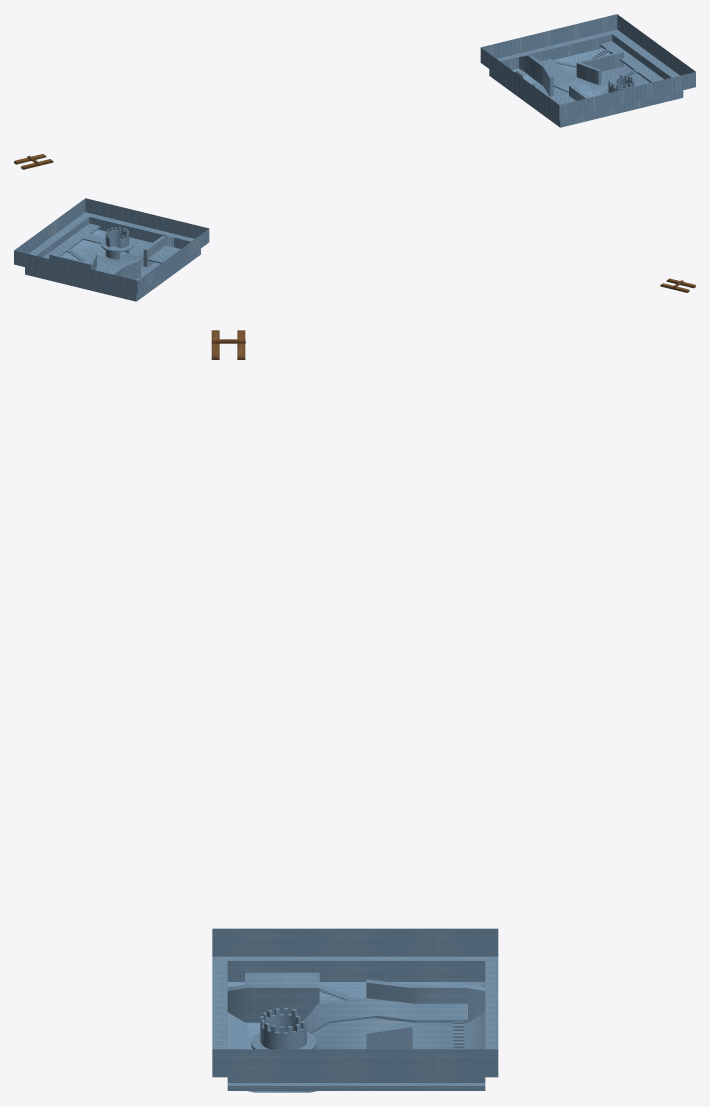
File: level 7.glb
3 renders of one model, top to bottom at view 1: azimuth 30°, elevation 25°; view 2: azimuth 150°, elevation 25°; view 3: azimuth 270°, elevation 25°, orthographic. The views are drawn at different scales.
Visible parts, largest first — view 1: Cube.004, Object_barrel_0; view 2: Cube.004, Object_barrel_0; view 3: Cube.004.
Part boxes in pixels (x1,y1,x2,y2): Cube.004: [480, 14, 695, 127]; Object_barrel_0: [14, 154, 53, 169]; Cube.004: [14, 198, 209, 301]; Object_barrel_0: [660, 278, 695, 292]; Cube.004: [212, 928, 498, 1092].
Size of the model in its own units: 169 by 25.35 by 34.46.
2 materials, 2 textured.
